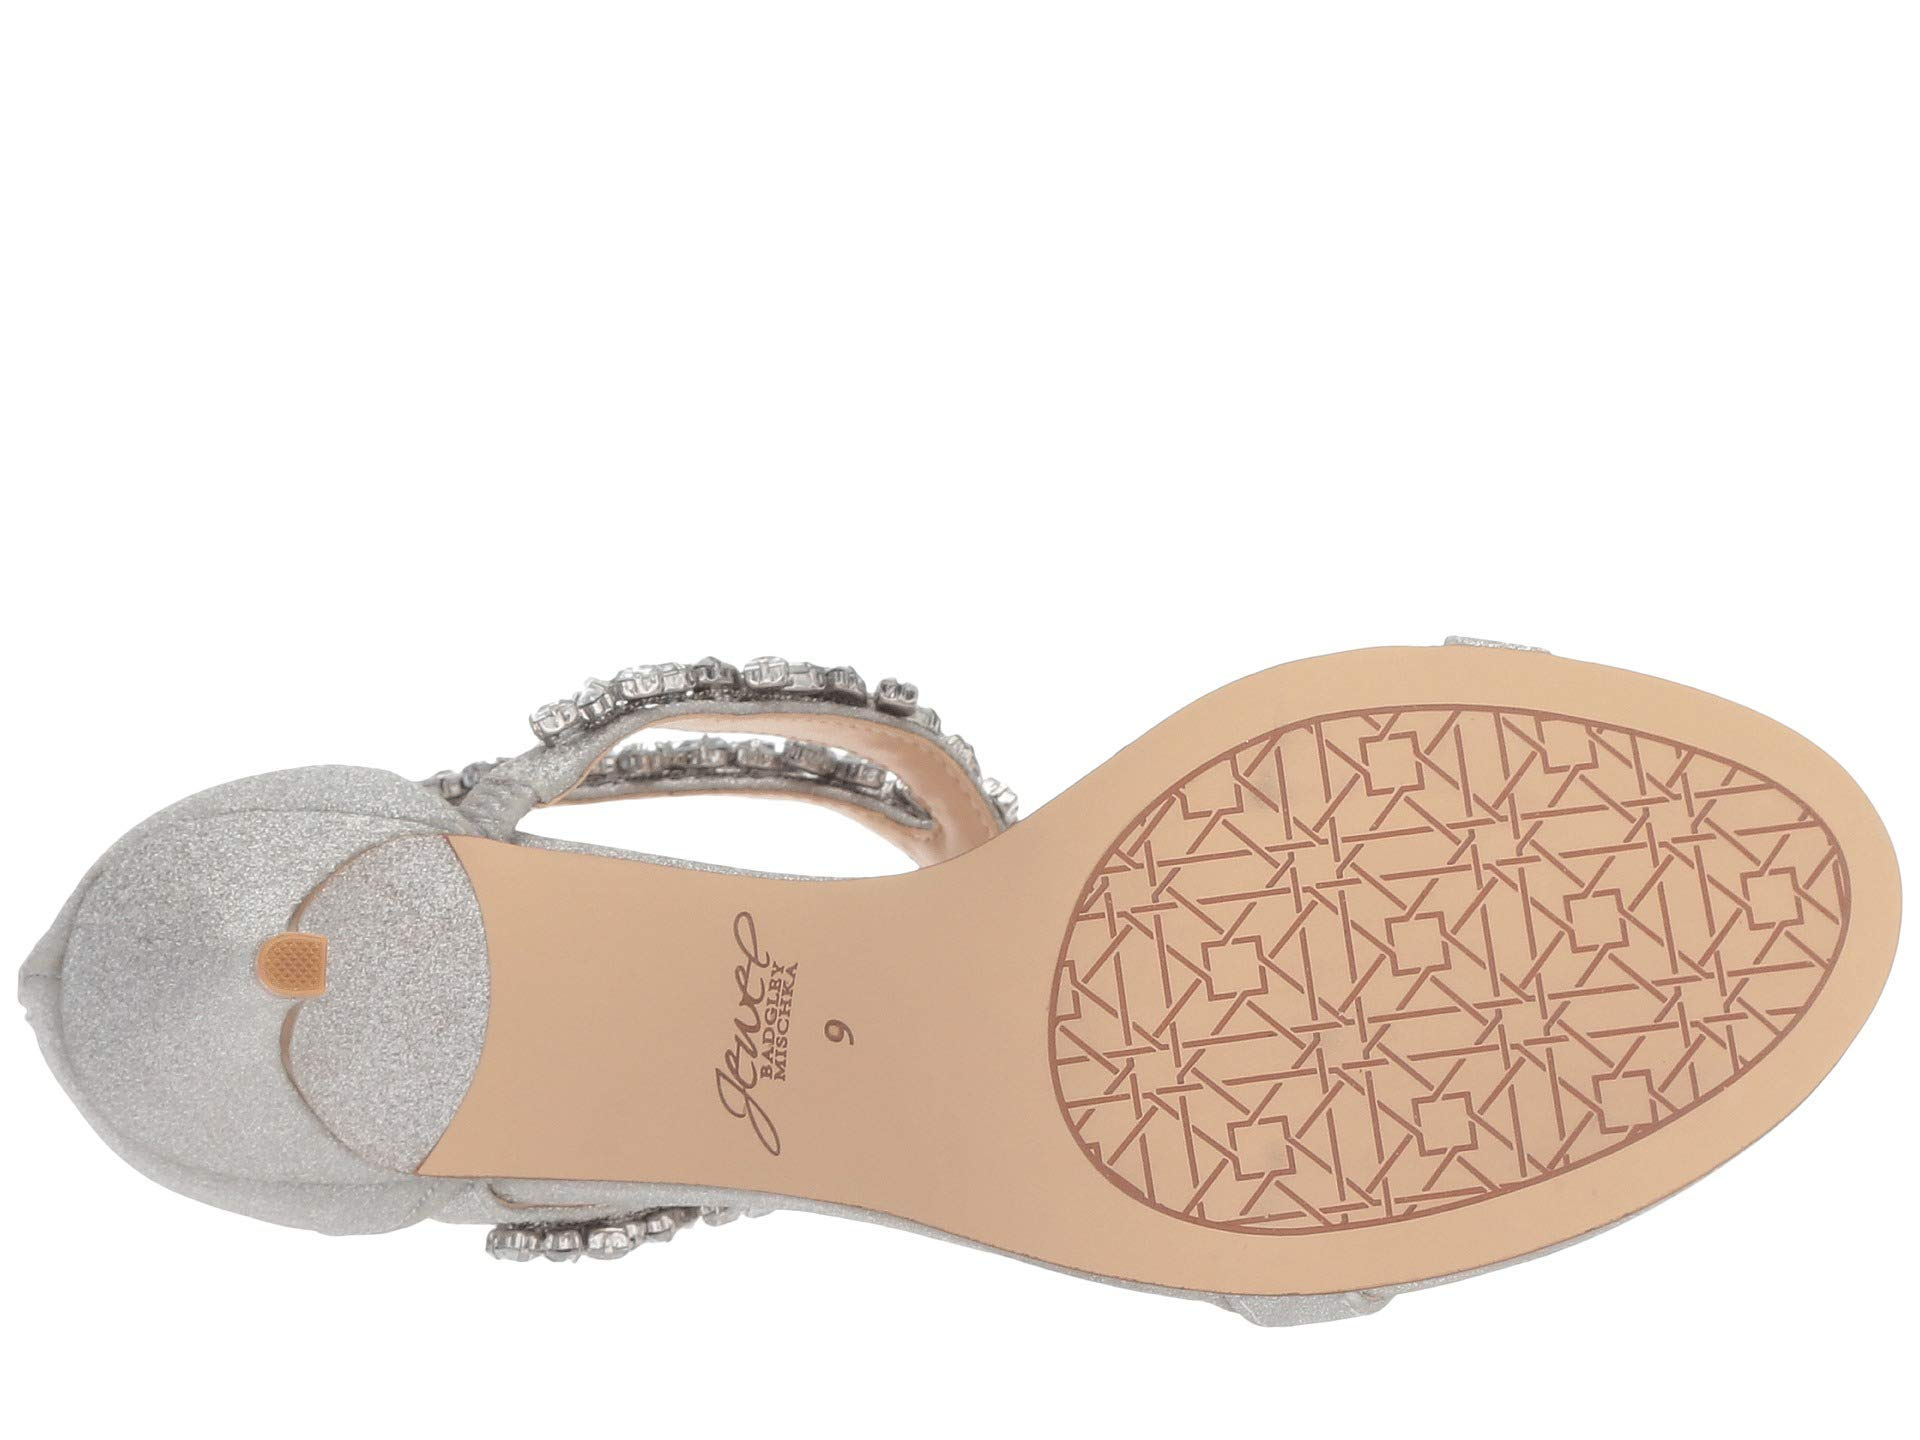exclude: (392, 616, 996, 1296)
line: (1152, 744, 1785, 1131), (257, 930, 333, 998)
quad: (1152, 744, 1785, 1131), (257, 930, 333, 998)
triangle: (1152, 744, 1785, 1131)
